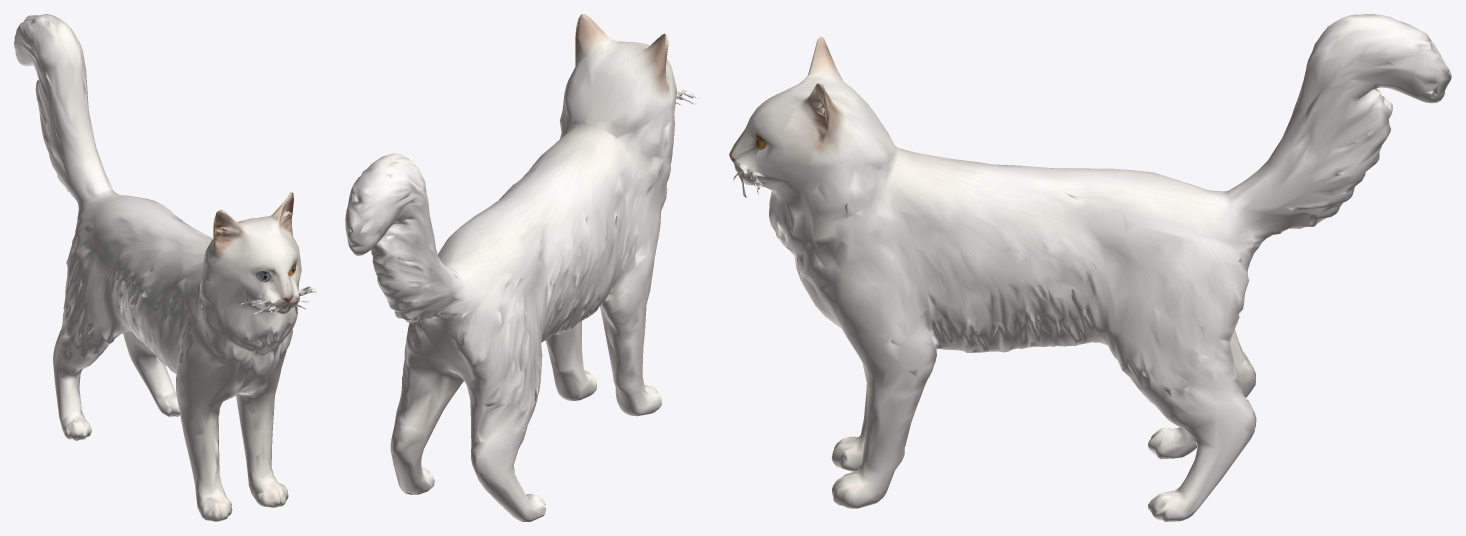
Rendered from city_van_odd_eyed_cat.glb.
3 views of the same model, side by side, from view 1: azimuth 30°, elevation 25°; view 2: azimuth 150°, elevation 25°; view 3: azimuth 270°, elevation 25° (orthographic). The views are drawn at different scales.
Visible parts, largest first — view 1: Mesh1.0; view 2: Mesh1.0; view 3: Mesh1.0.
Part boxes in pixels (bbox=[...]): Mesh1.0: bbox=[14, 14, 316, 521]; Mesh1.0: bbox=[345, 14, 698, 521]; Mesh1.0: bbox=[729, 14, 1451, 521].
Bounding box in the file's own units: 0.288 × 0.8 × 1.11.
Materials: 1 (1 with a texture image).
